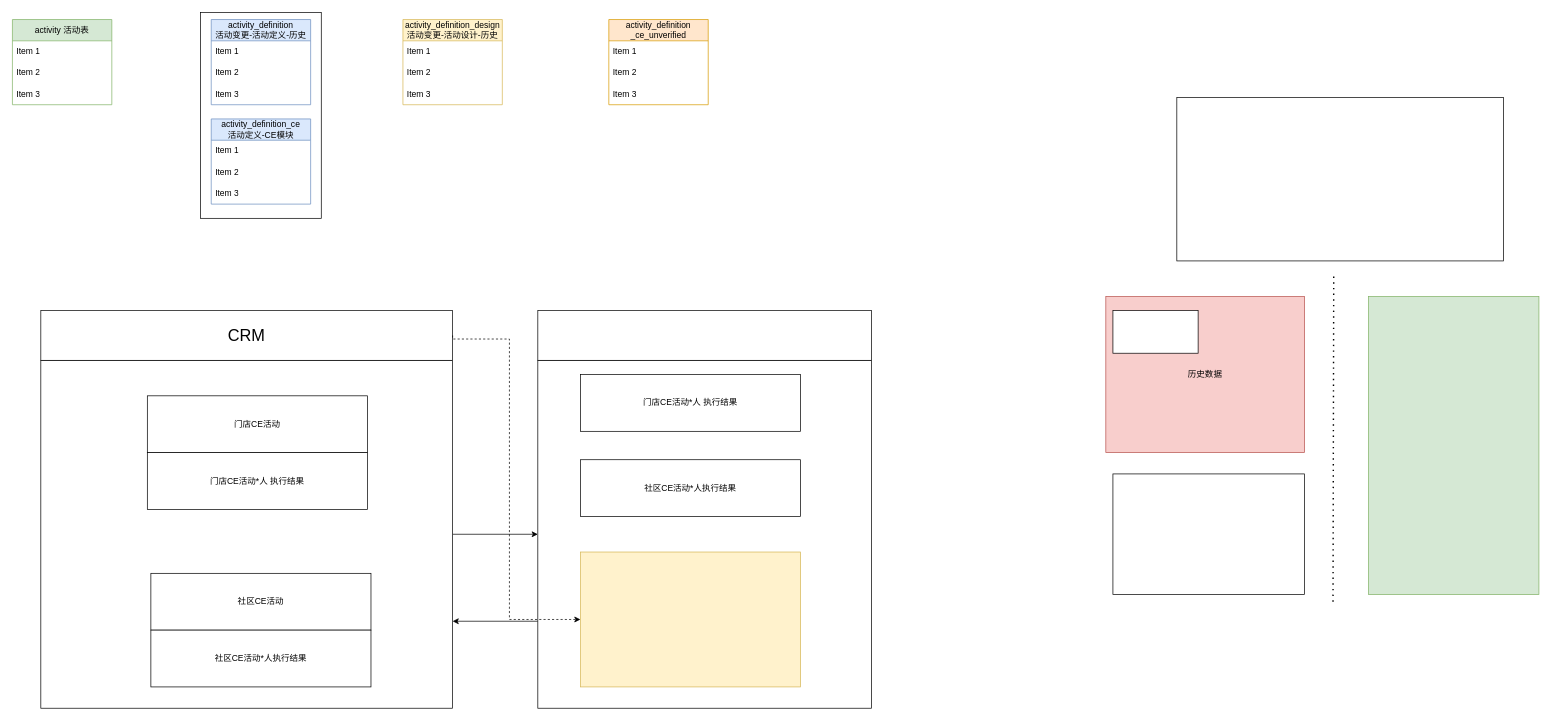
Some shapes in this 1551 by 721 pixel diagram are drawn without their labels. Each missing label, with the centre of its shape:
"1、报表" belongs at (x=690, y=619).
"5.30号后 1：小区活动能保持一致 2：门店活动校验逻辑保持一致" belongs at (x=1339, y=179).
"SFA" belongs at (x=704, y=335).
"【事2】 1、怎么清洗？ 2、怎么入CRM?" belongs at (x=1208, y=534).
"增量数据" belongs at (x=1453, y=445).
"缺计划数据" belongs at (x=1155, y=331).
